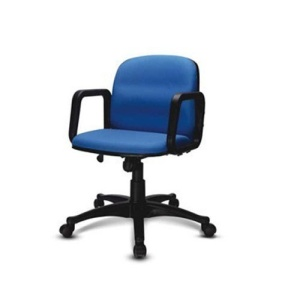chair: (59, 54, 218, 261)
